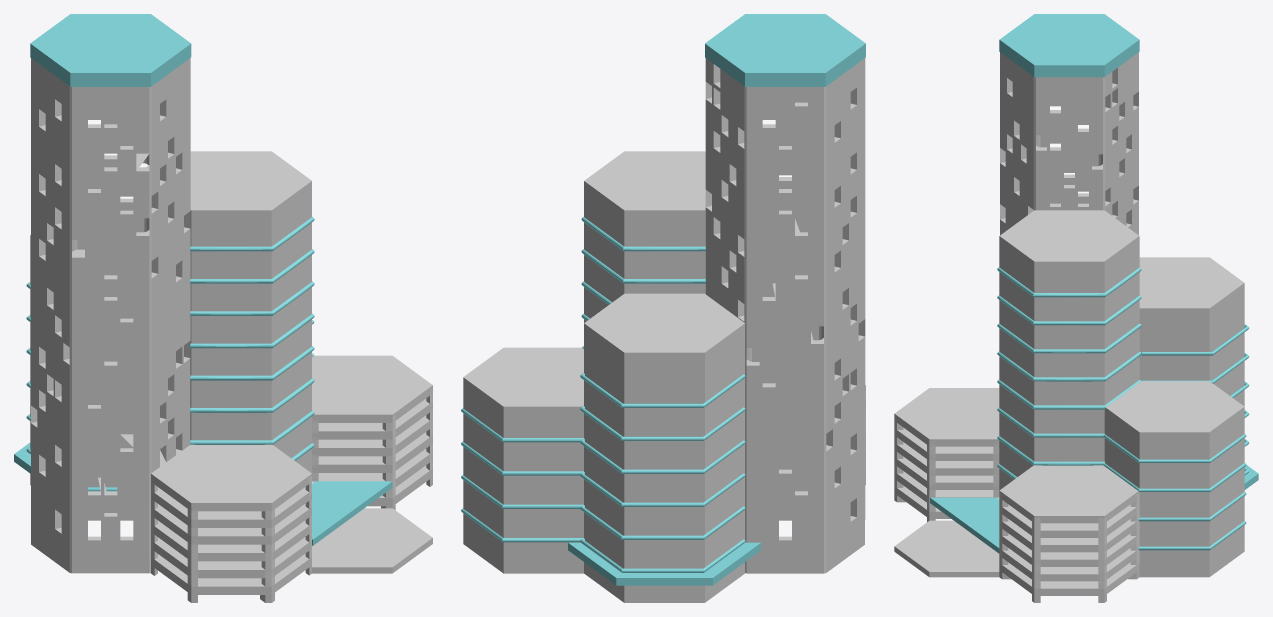
The model's file is Lab.fbx.
3 renders of one model, left to right at view 1: azimuth 30°, elevation 25°; view 2: azimuth 150°, elevation 25°; view 3: azimuth 270°, elevation 25°, orthographic. The views are drawn at different scales.
Parts seen in each view (by area): view 1: Cylinder.039, Cylinder.042, Cylinder.038, Cylinder.048, Cylinder.053, Cylinder.051, Cylinder.045, Cylinder.044, Cylinder.046; view 2: Cylinder.039, Cylinder.040, Cylinder.041, Cylinder.038, Cylinder.048, Cylinder.052, Cylinder.049, Cylinder.047, Cylinder.051; view 3: Cylinder.038, Cylinder.042, Cylinder.041, Cylinder.039, Cylinder.040, Cylinder.048, Cylinder.051, Cylinder.053, Cylinder.047, Cylinder.045, Cylinder.046, Cylinder.044 (+1 smaller).
Boxes of the visible parts, box(x1,y1,x2,y2) form: Cylinder.039: box(31, 58, 190, 573); Cylinder.042: box(151, 355, 432, 594); Cylinder.038: box(190, 151, 311, 473); Cylinder.048: box(30, 14, 191, 86); Cylinder.053: box(312, 508, 432, 573); Cylinder.051: box(189, 216, 314, 460); Cylinder.045: box(312, 481, 392, 545); Cylinder.044: box(151, 476, 311, 586); Cylinder.046: box(312, 388, 432, 498); Cylinder.039: box(705, 58, 865, 573); Cylinder.040: box(584, 293, 744, 602); Cylinder.041: box(463, 347, 583, 573); Cylinder.038: box(584, 151, 705, 322); Cylinder.048: box(705, 14, 865, 86); Cylinder.052: box(580, 373, 745, 572); Cylinder.049: box(568, 542, 761, 585); Cylinder.047: box(461, 408, 584, 542); Cylinder.051: box(581, 217, 705, 348); Cylinder.038: box(999, 210, 1139, 490); Cylinder.042: box(894, 388, 1139, 595); Cylinder.041: box(1104, 381, 1244, 577); Cylinder.039: box(1000, 52, 1138, 235); Cylinder.040: box(1139, 257, 1244, 406); Cylinder.048: box(999, 14, 1139, 77); Cylinder.051: box(997, 267, 1141, 479); Cylinder.053: box(894, 520, 999, 577); Cylinder.047: box(1103, 434, 1246, 550); Cylinder.045: box(930, 497, 999, 553); Cylinder.046: box(999, 492, 1139, 588); Cylinder.044: box(894, 416, 999, 511).
Bounding box in the file's own units: 10.91 × 14.4 × 10.92.
